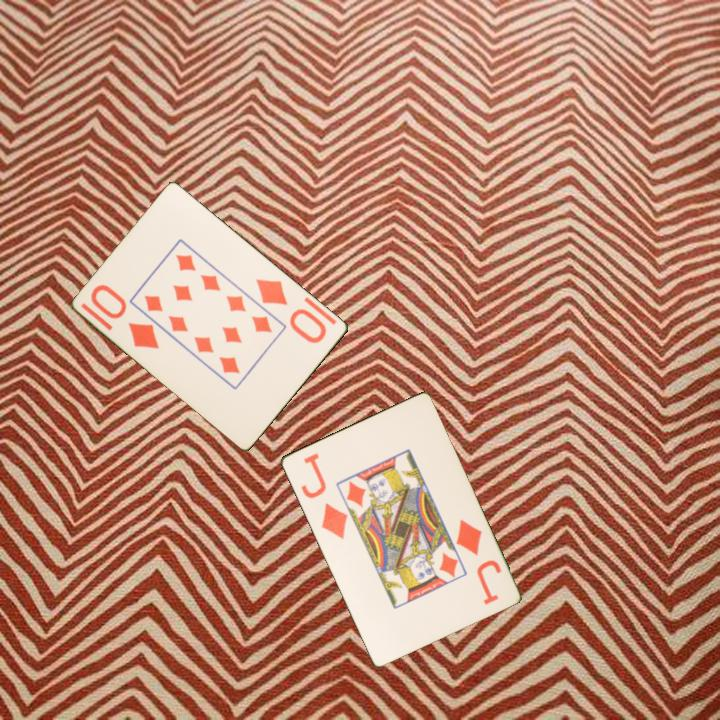10d: (253, 275, 330, 346), (87, 281, 163, 352)
Jd: (297, 449, 350, 542), (452, 515, 504, 608)
